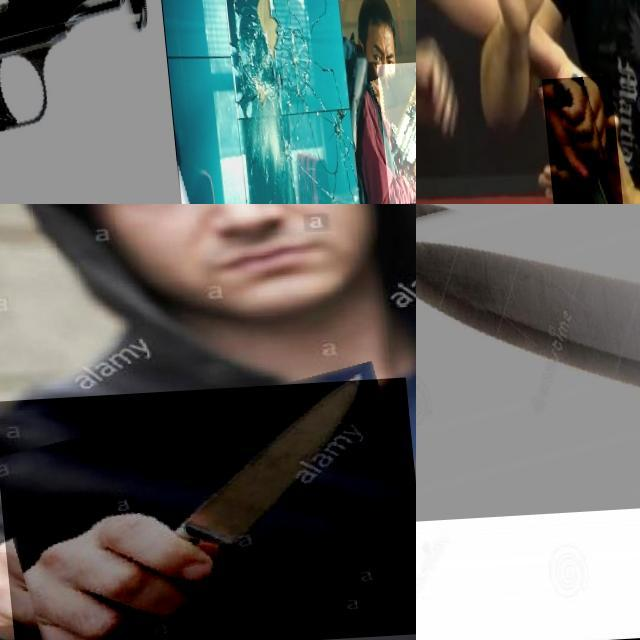-: (0, 384, 416, 640), (416, 204, 640, 524), (536, 81, 620, 204)
gun-knife-thesis - v11 Yolov5 augmented: (0, 0, 182, 204), (374, 67, 416, 204)
